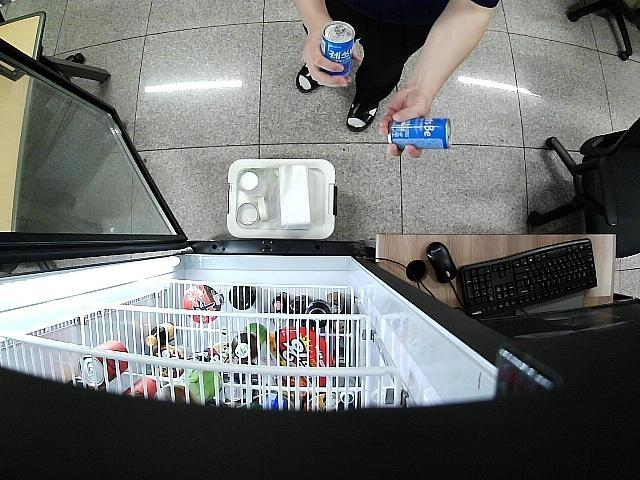15_letsbe: (320, 20, 356, 76), (392, 117, 451, 150)
